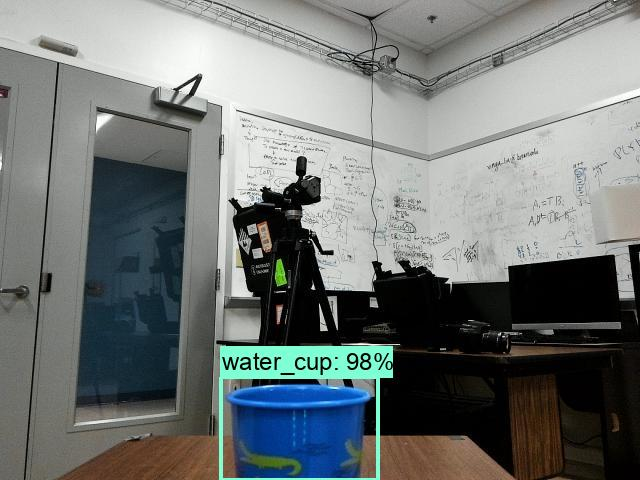water_cup: (223, 378, 371, 479)
